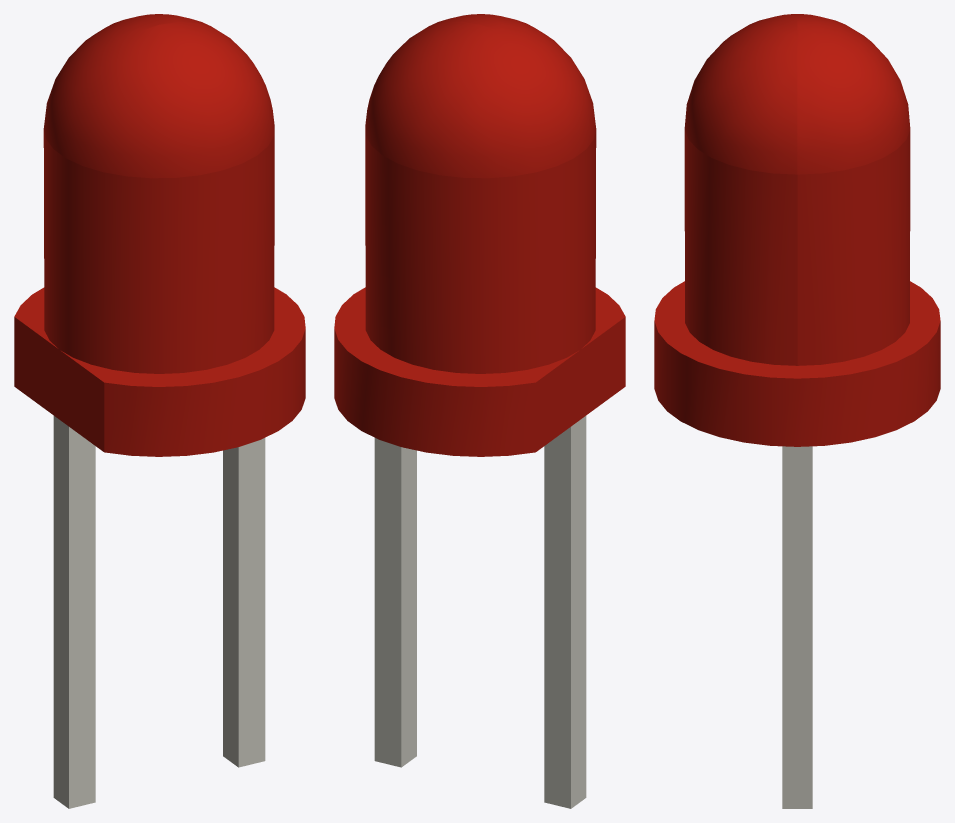
File: kc-led_d3.0mm.glb
The picture shows the model from 3 angles, left to right: view 1: azimuth 30°, elevation 25°; view 2: azimuth 150°, elevation 25°; view 3: azimuth 270°, elevation 25°; orthographic projection. The views are drawn at different scales.
Visible parts, largest first — view 1: 0.4166666666666667_0_0_0, 0.6666666666666666_0.6666666666666666_0.5833333333333334_0.8; view 2: 0.4166666666666667_0_0_0, 0.6666666666666666_0.6666666666666666_0.5833333333333334_0.8; view 3: 0.4166666666666667_0_0_0, 0.6666666666666666_0.6666666666666666_0.5833333333333334_0.8.
Part boxes in pixels (x1=…): 0.4166666666666667_0_0_0: x1=14, y1=14, x2=305, y2=456; 0.6666666666666666_0.6666666666666666_0.5833333333333334_0.8: x1=53, y1=416, x2=265, y2=808; 0.4166666666666667_0_0_0: x1=334, y1=14, x2=625, y2=456; 0.6666666666666666_0.6666666666666666_0.5833333333333334_0.8: x1=374, y1=416, x2=586, y2=808; 0.4166666666666667_0_0_0: x1=654, y1=14, x2=940, y2=446; 0.6666666666666666_0.6666666666666666_0.5833333333333334_0.8: x1=782, y1=446, x2=812, y2=808.
Size of the model in its own units: 0.34 by 1.08 by 0.3796.
